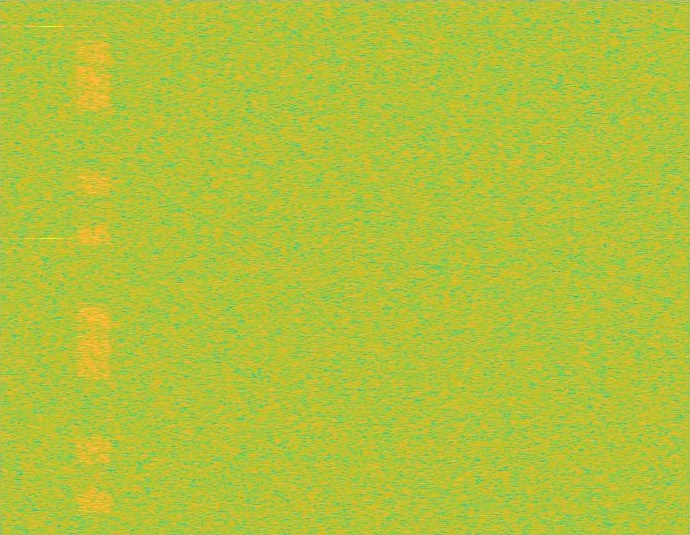LTE: (77, 0, 111, 534)
Radar: (43, 0, 57, 534)
